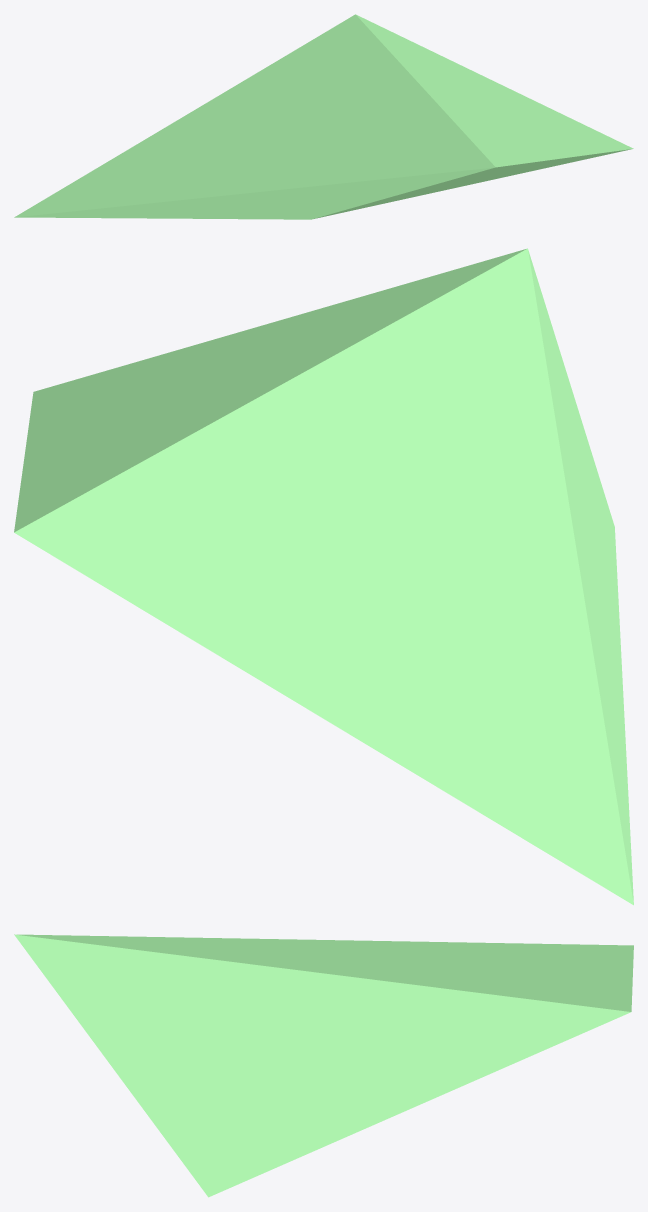
File: linkhou_LR4_R560_link6_respondable_coll_31.dae
3 views of the same model, one above another, from view 1: azimuth 30°, elevation 25°; view 2: azimuth 150°, elevation 25°; view 3: azimuth 270°, elevation 25° (orthographic). The views are drawn at different scales.
Visible parts, largest first — view 1: Node_00000209DB3AA2F0; view 2: Node_00000209DB3AA2F0; view 3: Node_00000209DB3AA2F0.
Part boxes in pixels (x1,y1,x2,y2): Node_00000209DB3AA2F0: [14, 14, 633, 219]; Node_00000209DB3AA2F0: [14, 248, 633, 905]; Node_00000209DB3AA2F0: [14, 934, 633, 1197].
Size of the model in its own units: 0.031 by 0.00869 by 0.024.
